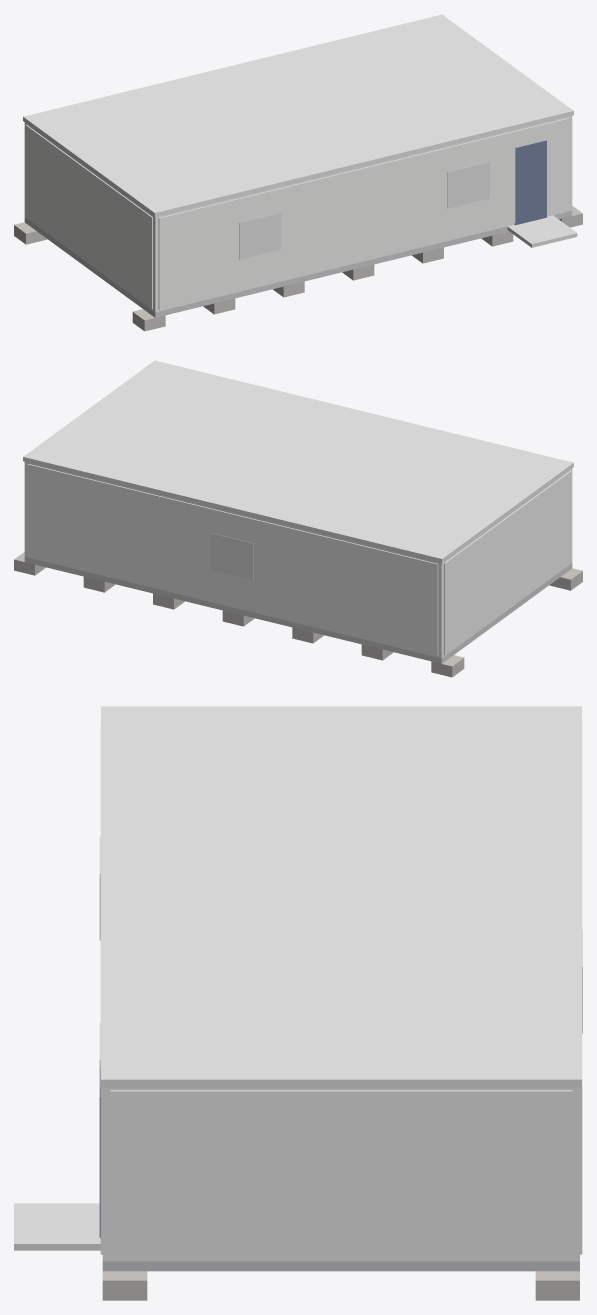
Rendered from Studio-40-Retirement-LOD0.glb.
The picture shows the model from 3 angles, top to bottom: view 1: azimuth 30°, elevation 25°; view 2: azimuth 150°, elevation 25°; view 3: azimuth 270°, elevation 25°; orthographic projection. The views are drawn at different scales.
Parts seen in each view (by area): view 1: RoofMain, ExteriorPanelsStandard, WindowsStandard, BaseFrame, ExteriorShell, FoundationBlocks, EntryDoor, AccessibilityRetirement; view 2: RoofMain, ExteriorPanelsStandard, BaseFrame, ExteriorShell, FoundationBlocks, WindowsStandard; view 3: RoofMain, ExteriorPanelsStandard, ExteriorShell, BaseFrame, AccessibilityRetirement, FoundationBlocks.
Part boxes in pixels (x1,y1,x2,y2): RoofMain: (23, 14, 573, 217); ExteriorPanelsStandard: (25, 118, 569, 309); WindowsStandard: (239, 161, 489, 259); BaseFrame: (24, 211, 572, 317); ExteriorShell: (24, 116, 572, 312); FoundationBlocks: (14, 206, 582, 331); EntryDoor: (514, 140, 546, 225); AccessibilityRetirement: (507, 215, 577, 247); RoofMain: (23, 360, 573, 563); ExteriorPanelsStandard: (27, 464, 571, 655); BaseFrame: (24, 557, 572, 663); ExteriorShell: (24, 462, 572, 658); FoundationBlocks: (14, 552, 582, 677); WindowsStandard: (211, 533, 253, 579); RoofMain: (101, 706, 581, 1087); ExteriorPanelsStandard: (100, 722, 582, 1258); ExteriorShell: (102, 1087, 579, 1261); BaseFrame: (102, 1261, 579, 1271); AccessibilityRetirement: (14, 1203, 100, 1250); FoundationBlocks: (102, 1271, 579, 1300).
Bounding box in the file's own units: 12.49 × 3.17 × 7.69.
